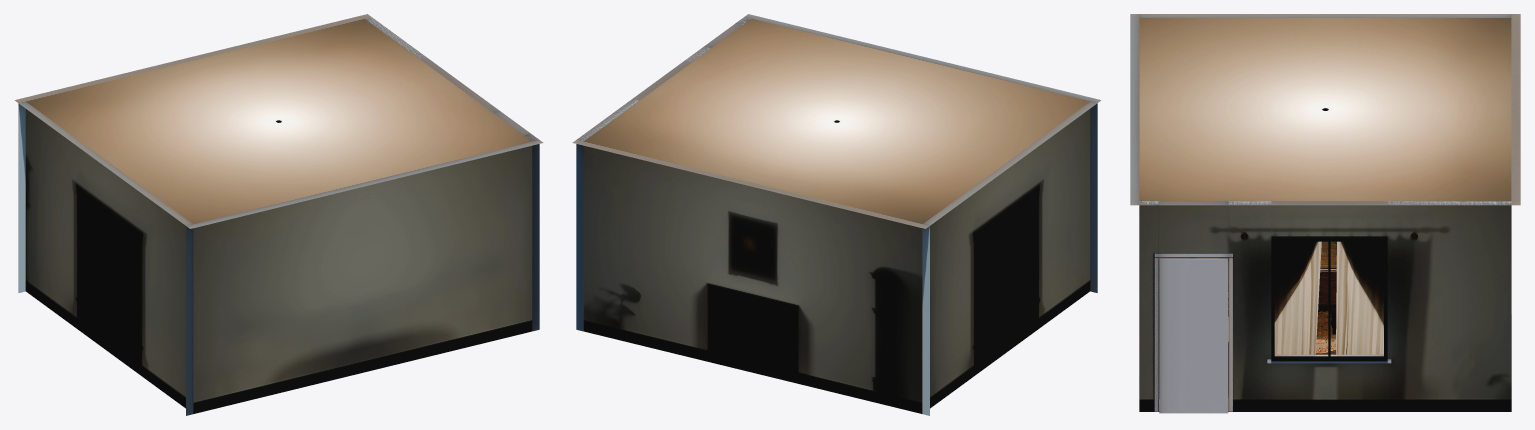
Rendered from neocolonial-parlour-01.glb.
The picture shows the model from 3 angles, left to right: view 1: azimuth 30°, elevation 25°; view 2: azimuth 150°, elevation 25°; view 3: azimuth 270°, elevation 25°; orthographic projection. The views are drawn at different scales.
Visible parts, largest first — view 1: wall_front, ceiling, wall_left, wall_back; view 2: wall_back, ceiling, wall_left, wall_front; view 3: ceiling, wall_right_end, door_right_0_slab, sketchfab_14, wall_right_1a, wall_right_1b, wall_right_1c, wall_right_0a, wall_right_0c, sketchfab_8, door_right_0_casing_l, sketchfab_0 (+8 smaller).
Part boxes in pixels (x1=…): wall_front: x1=186, y1=144, x2=539, y2=415; ceiling: x1=14, y1=14, x2=543, y2=228; wall_left: x1=25, y1=109, x2=185, y2=408; wall_back: x1=18, y1=103, x2=25, y2=292; wall_back: x1=576, y1=144, x2=929, y2=415; ceiling: x1=572, y1=14, x2=1101, y2=228; wall_left: x1=930, y1=109, x2=1090, y2=408; wall_front: x1=1090, y1=103, x2=1097, y2=292; ceiling: x1=1130, y1=14, x2=1520, y2=205; wall_right_end: x1=1387, y1=201, x2=1511, y2=411; door_right_0_slab: x1=1159, y1=258, x2=1228, y2=413; sketchfab_14: x1=1240, y1=232, x2=1417, y2=354; wall_right_1a: x1=1228, y1=201, x2=1271, y2=411; wall_right_1b: x1=1271, y1=361, x2=1387, y2=411; wall_right_1c: x1=1271, y1=205, x2=1387, y2=236; wall_right_0a: x1=1139, y1=201, x2=1158, y2=411; wall_right_0c: x1=1159, y1=205, x2=1228, y2=257; sketchfab_8: x1=1318, y1=271, x2=1336, y2=334; door_right_0_casing_l: x1=1154, y1=257, x2=1158, y2=411; sketchfab_0: x1=1315, y1=269, x2=1336, y2=354.
Bounding box in the file's own units: 5.84 × 3 × 5.04.
42 materials, 42 textured.
